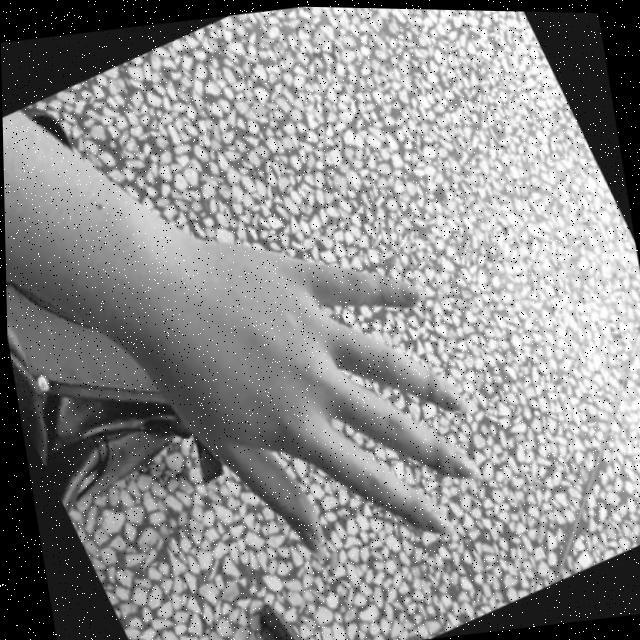no-gloves: (110, 186, 497, 598)
